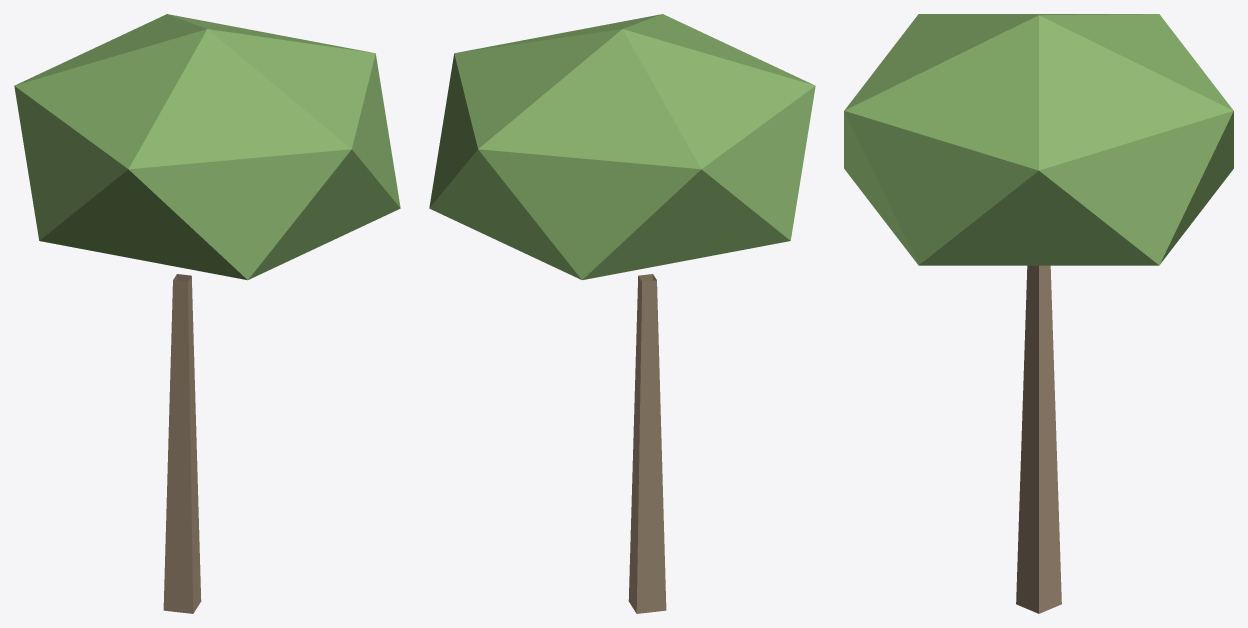
File: acacia_lod.glb
3 views of the same model, side by side, from view 1: azimuth 30°, elevation 25°; view 2: azimuth 150°, elevation 25°; view 3: azimuth 270°, elevation 25° (orthographic). The views are drawn at different scales.
Visible parts, largest first — view 1: acacia_lod; view 2: acacia_lod; view 3: acacia_lod.
Part boxes in pixels (x1,y1,x2,y2): acacia_lod: (14, 14, 400, 613); acacia_lod: (429, 14, 815, 613); acacia_lod: (844, 14, 1233, 613).
Size of the model in its own units: 5.37 by 8.7 by 5.1.
